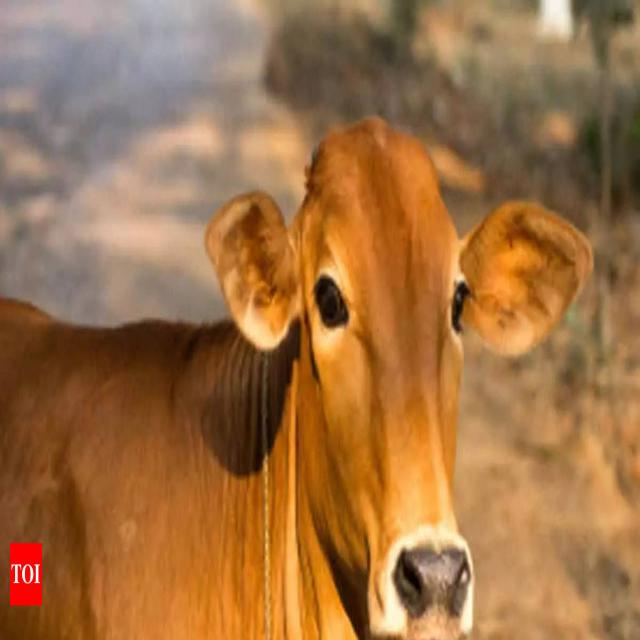cow: (1, 68, 594, 640)
